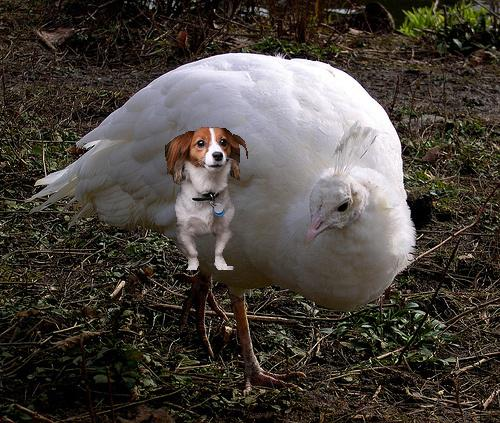tampered: (166, 128, 248, 270)
